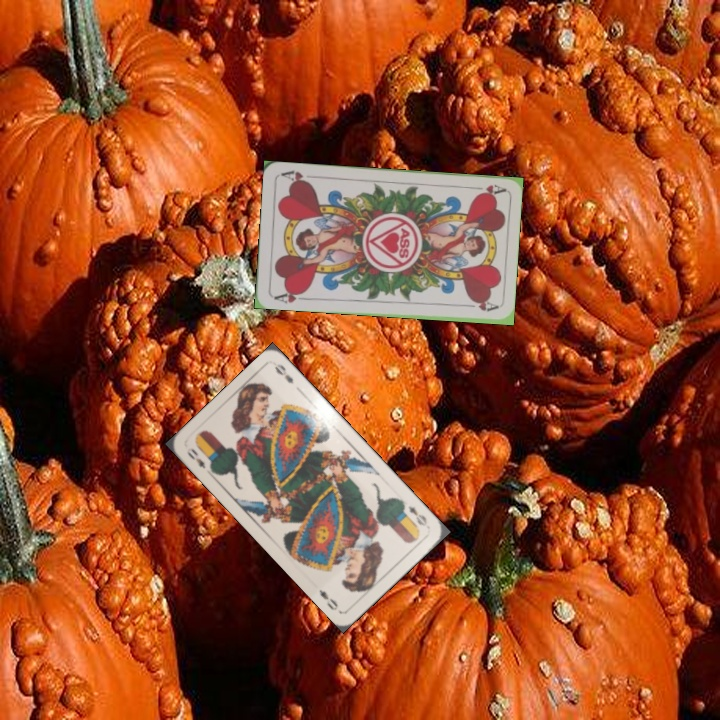EO: (404, 501, 430, 529), (182, 444, 208, 471)
HA: (270, 286, 310, 306), (466, 181, 506, 198)
